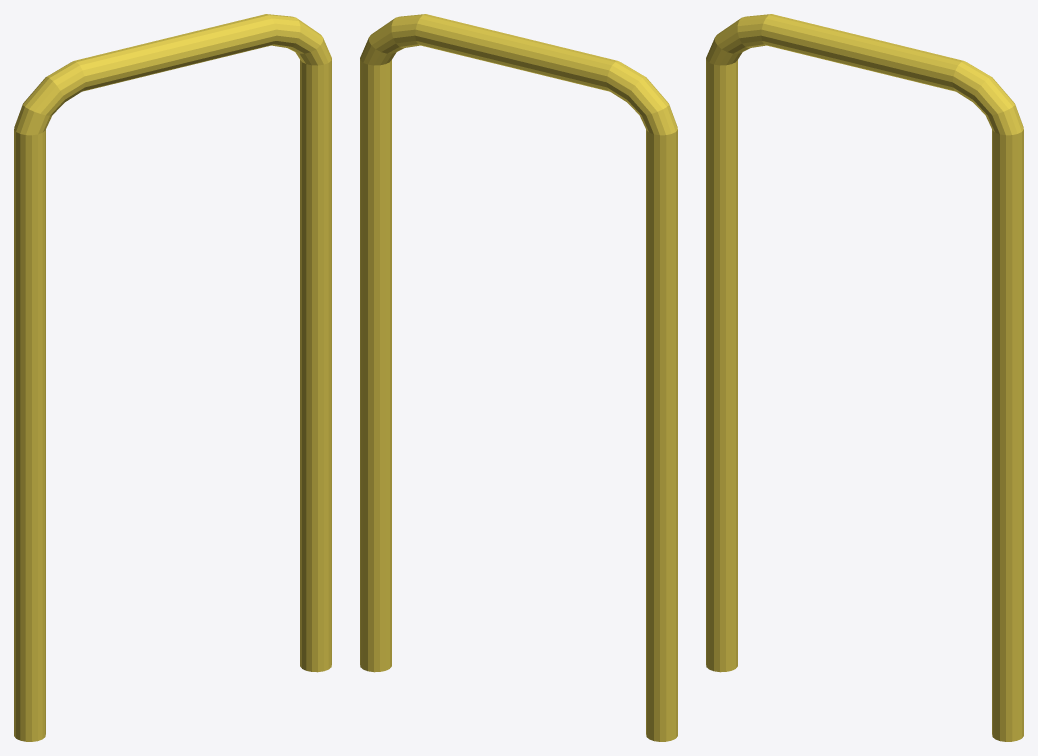
File: safetyRail.fbx
The picture shows the model from 3 angles, left to right: view 1: azimuth 30°, elevation 25°; view 2: azimuth 150°, elevation 25°; view 3: azimuth 330°, elevation 25°; orthographic projection.
Visible parts, largest first — view 1: Safety Rail; view 2: Safety Rail; view 3: Safety Rail.
Part boxes in pixels (<box>): Safety Rail: <box>14,14,331,741</box>; Safety Rail: <box>360,14,677,741</box>; Safety Rail: <box>706,14,1023,741</box>.
Bounding box in the file's own units: 60.56 × 5.36 × 122.
